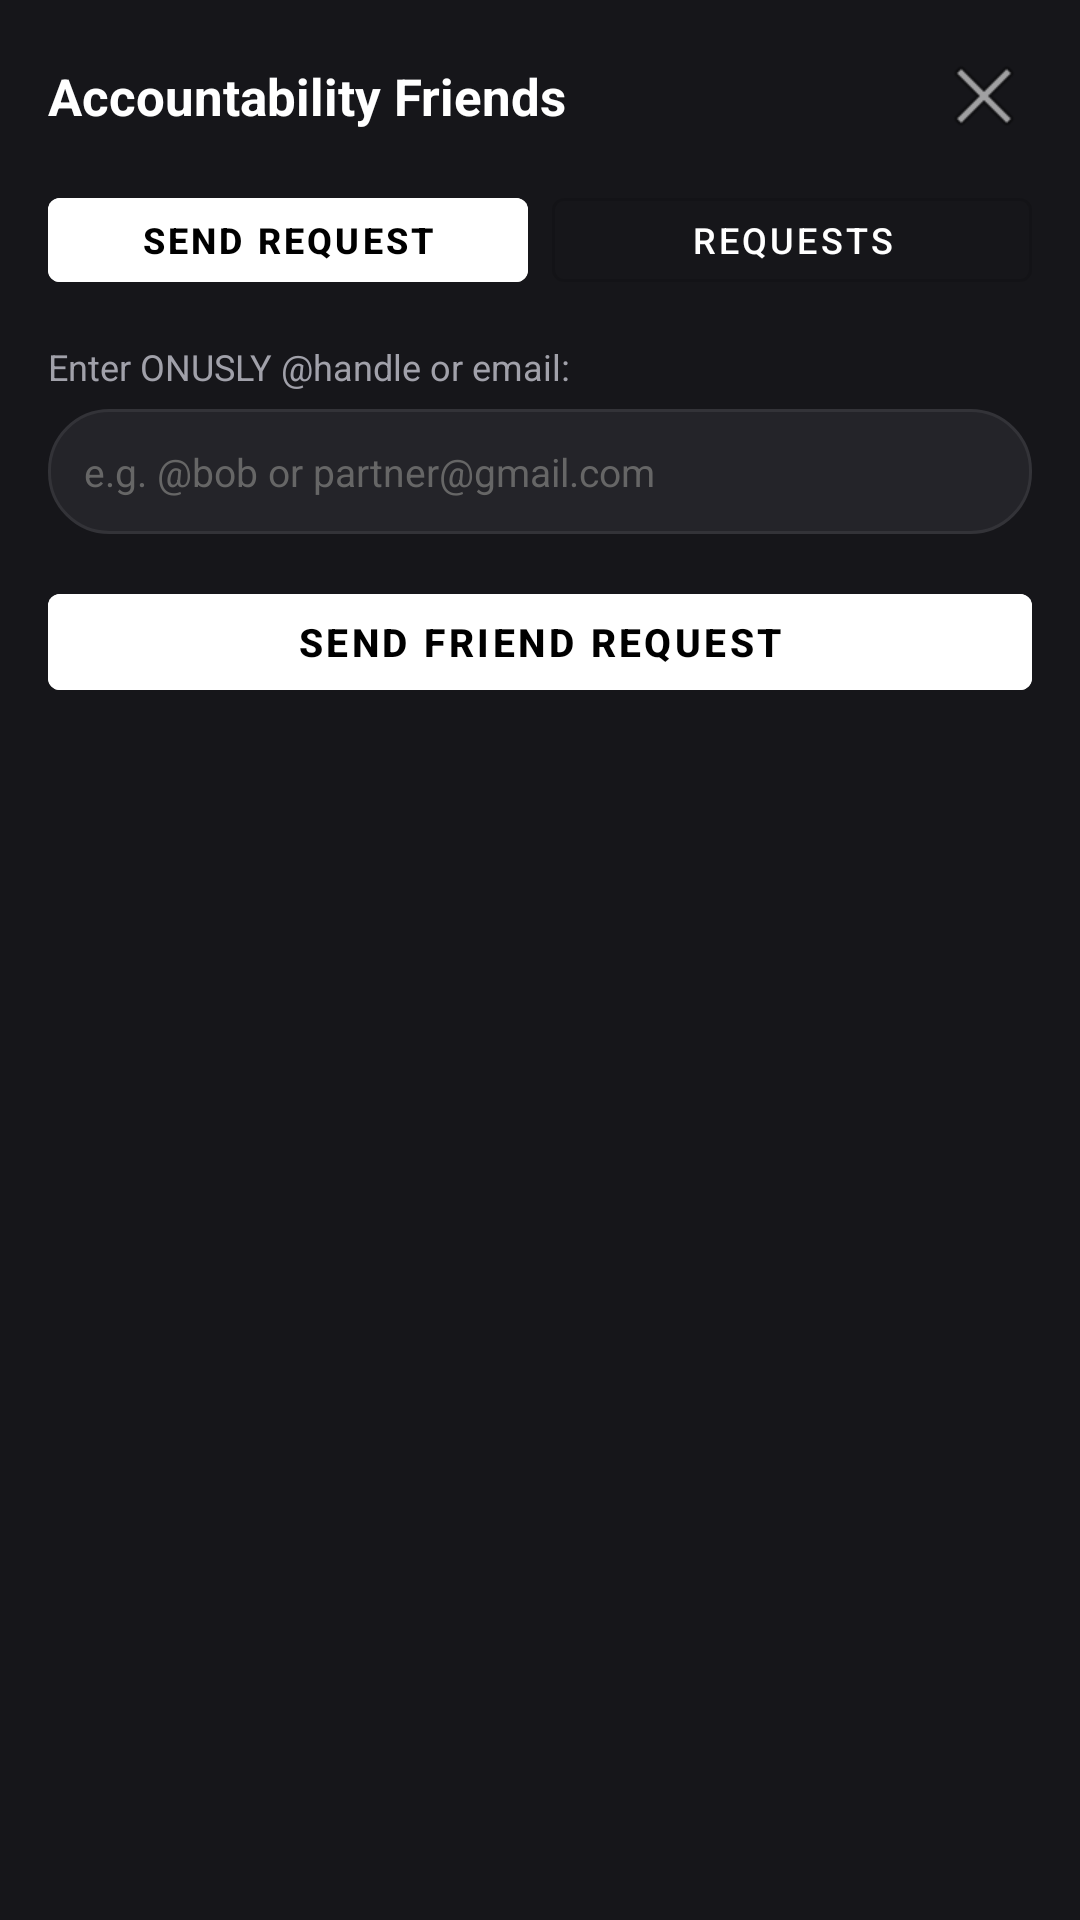

Named icons in this screenshot (1080*1920) and their centers, (x=x, y=y):
Close: (x=984, y=96)
